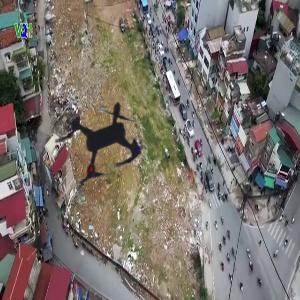drone: (13, 49, 192, 228)
